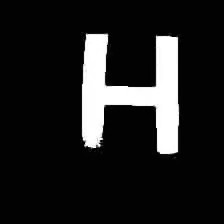LTR_H: (68, 19, 184, 161)
